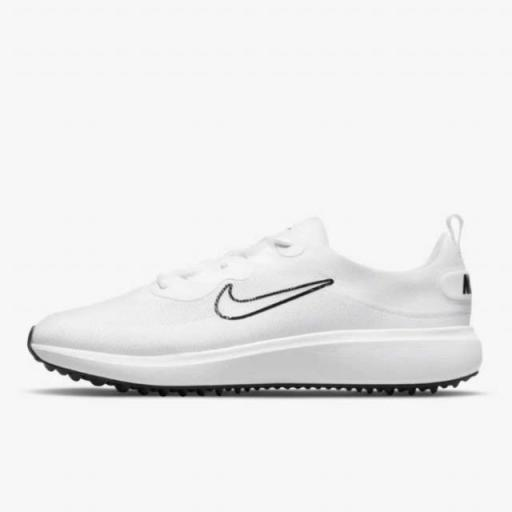Nike: (206, 276, 340, 325)
